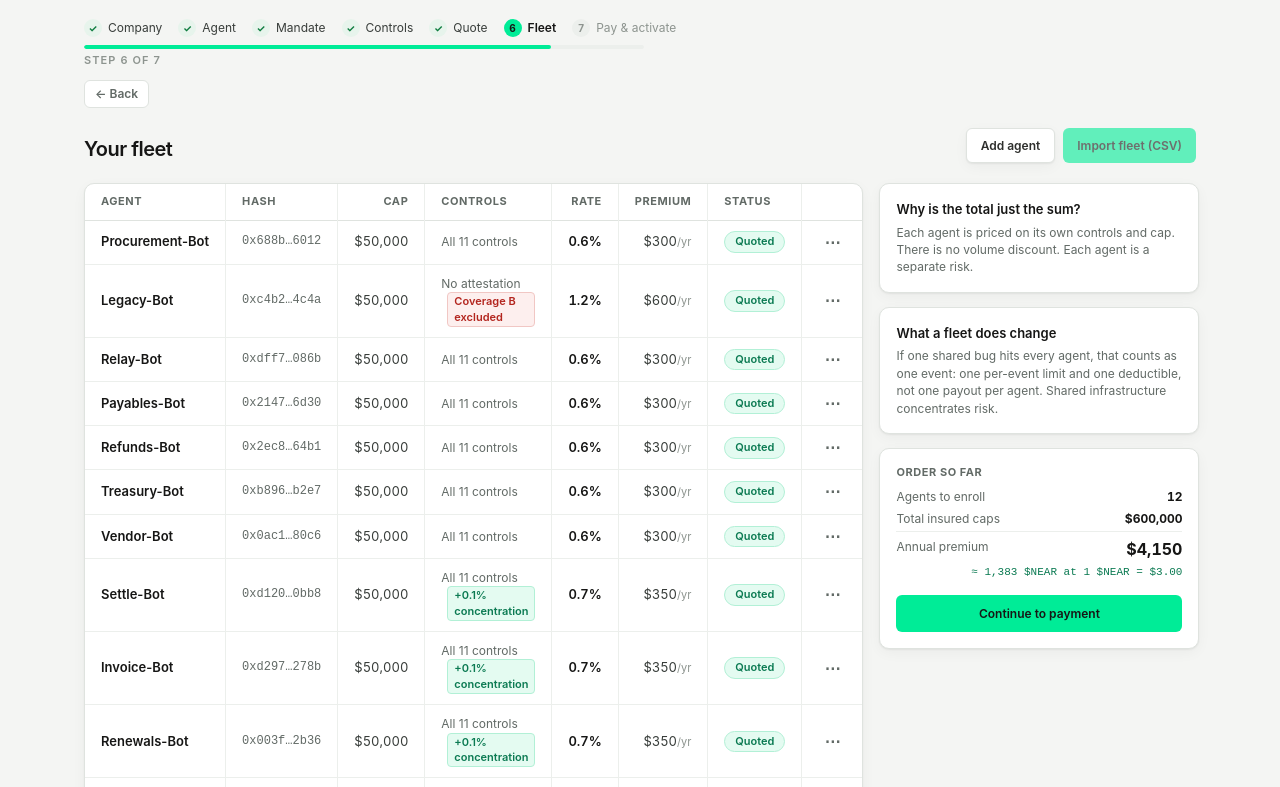
Test: 7.7 — totals are the exact sum (REQ-7.7.1, AC-5) › de-enrolling an agent drops the total by exactly its premium
Click the button with test id "row-menu-legacy-bot".
click(832, 301)  # box [818, 289, 846, 312]
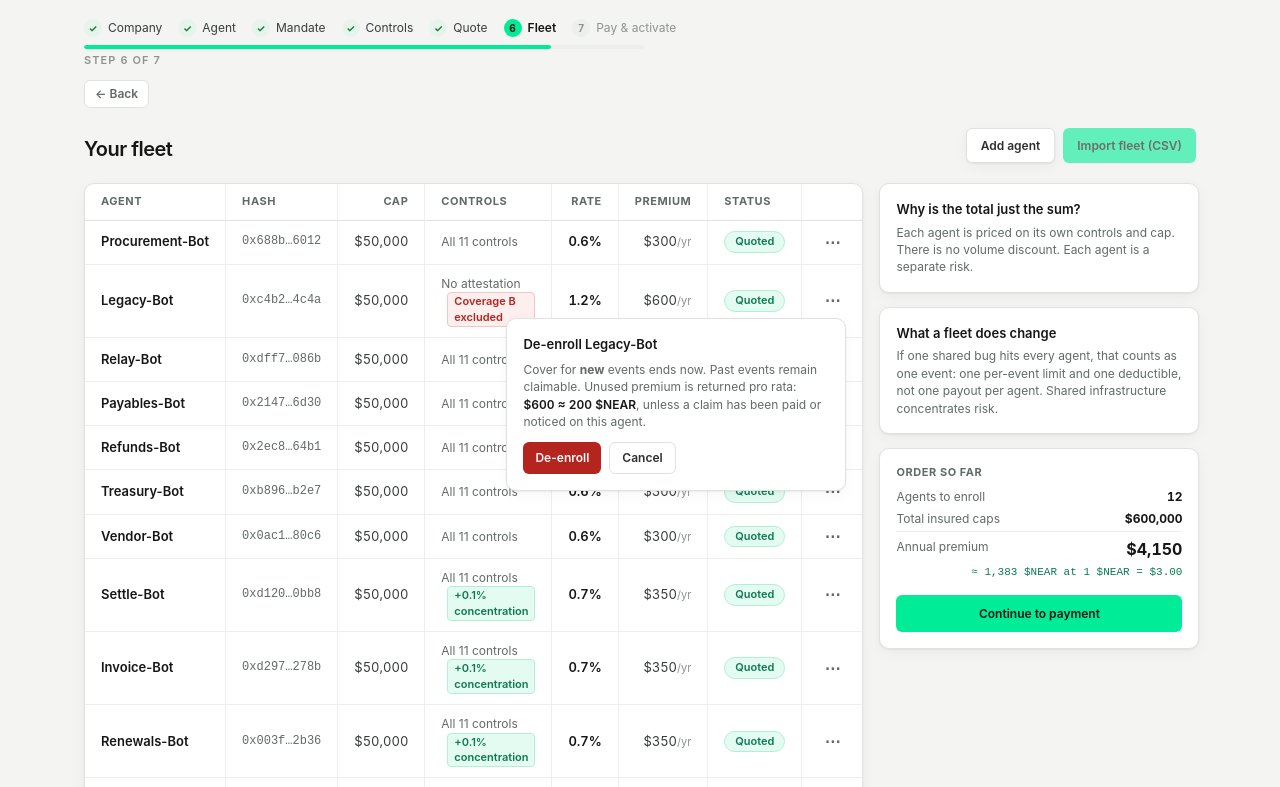
Click the button with test id "deenroll-confirm-legacy-bot".
click(562, 458)  # box [523, 442, 601, 474]
(page scrolled)
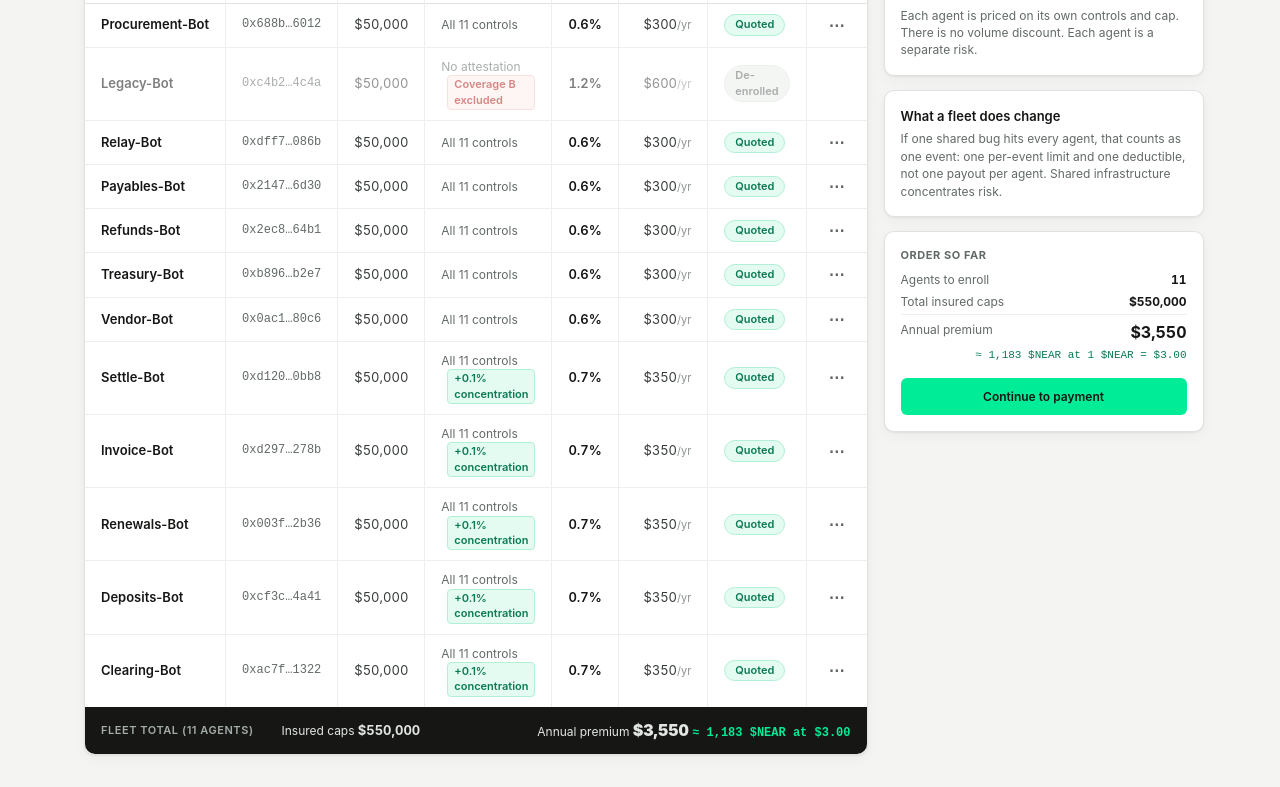
expect the text with test id "fleet-total-premium" reads "$3,550": met, box [633, 720, 689, 740]
